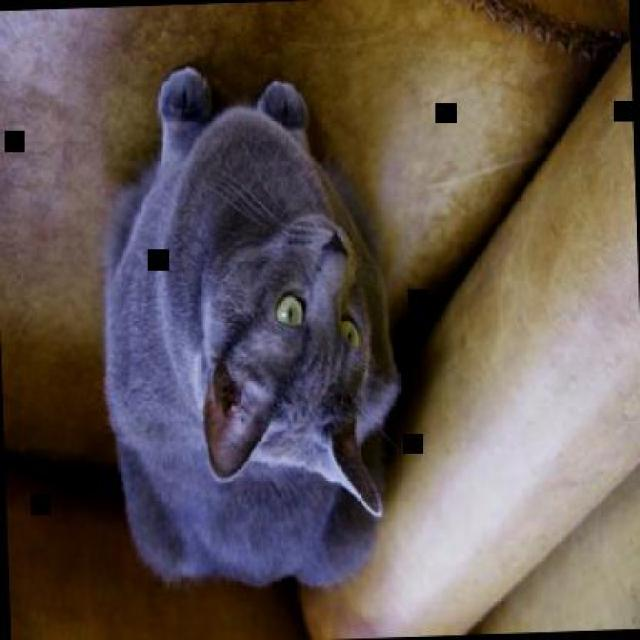cat: (95, 58, 408, 594)
